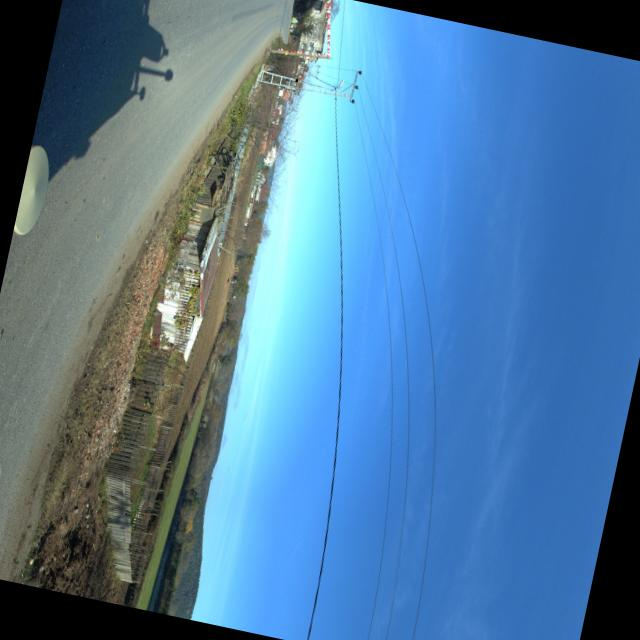Utility Pole Information Plate: (294, 79, 297, 82)
